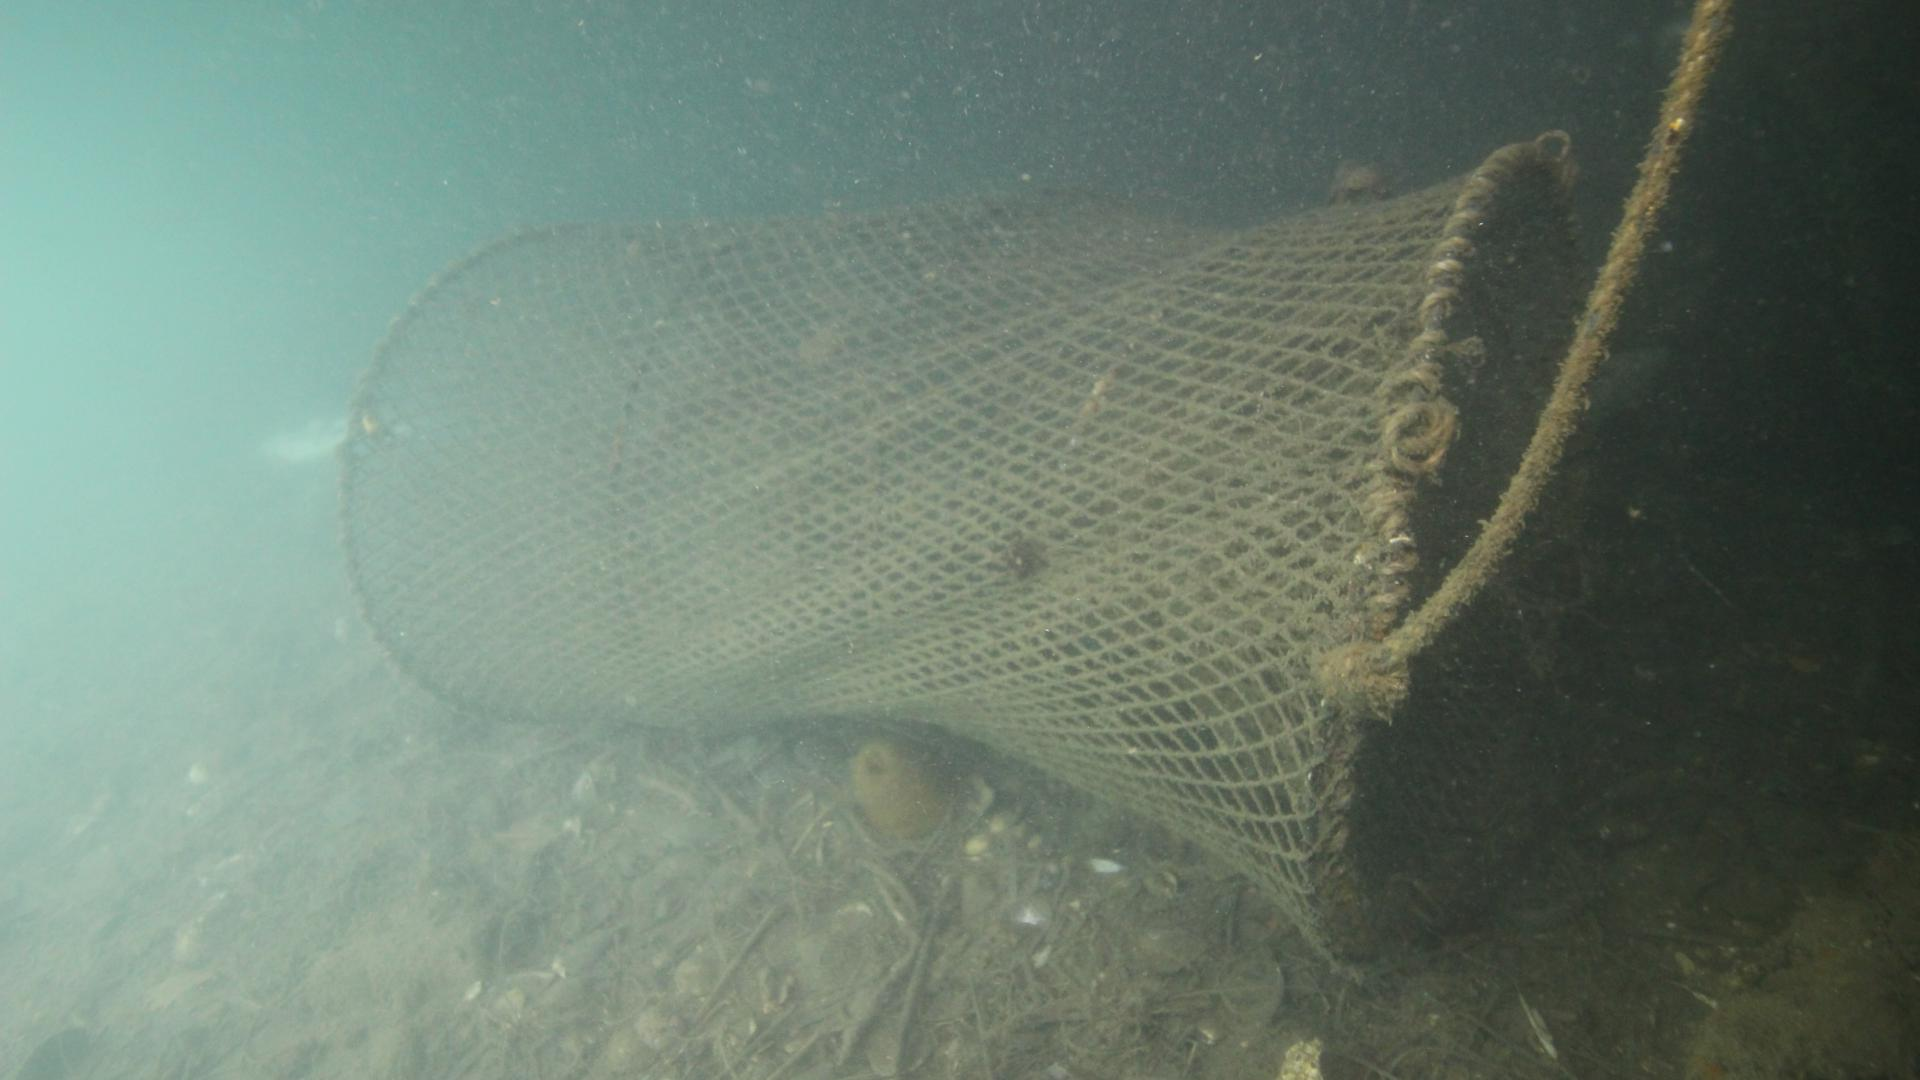spring fish trap: (336, 138, 1578, 980), (1578, 0, 1734, 361)
